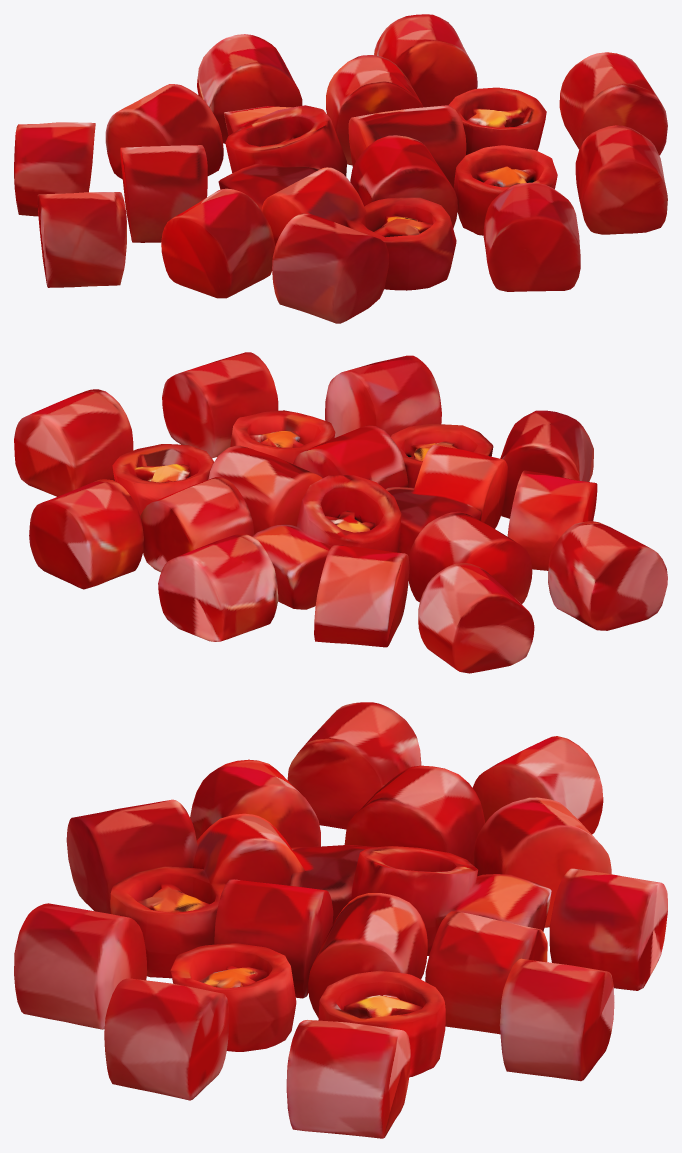
Rendered from base_basic_shaded.fbx.
The picture shows the model from 3 angles, top to bottom: view 1: azimuth 30°, elevation 25°; view 2: azimuth 150°, elevation 25°; view 3: azimuth 270°, elevation 25°; orthographic projection. The views are drawn at different scales.
Visible parts, largest first — view 1: model; view 2: model; view 3: model.
Part boxes in pixels (x1,y1,x2,y2): model: (14,14,667,323); model: (14,352,667,673); model: (14,702,667,1138).
Size of the model in its own units: 190 by 24.05 by 145.
